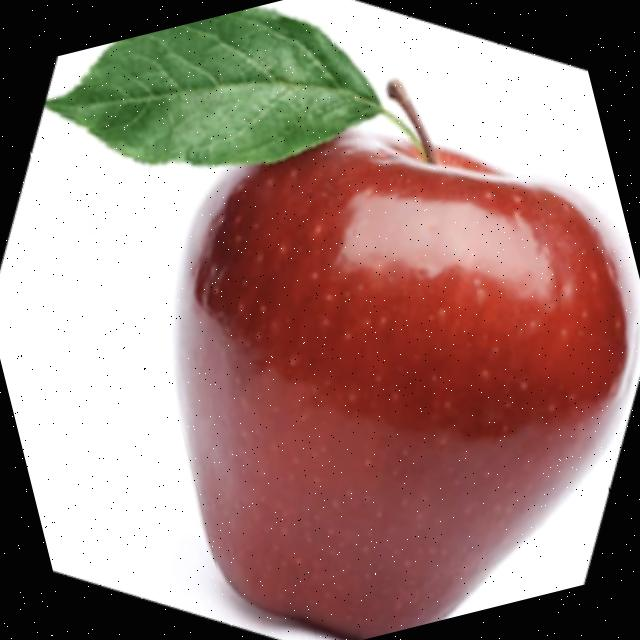Ripe: (107, 61, 640, 640)
